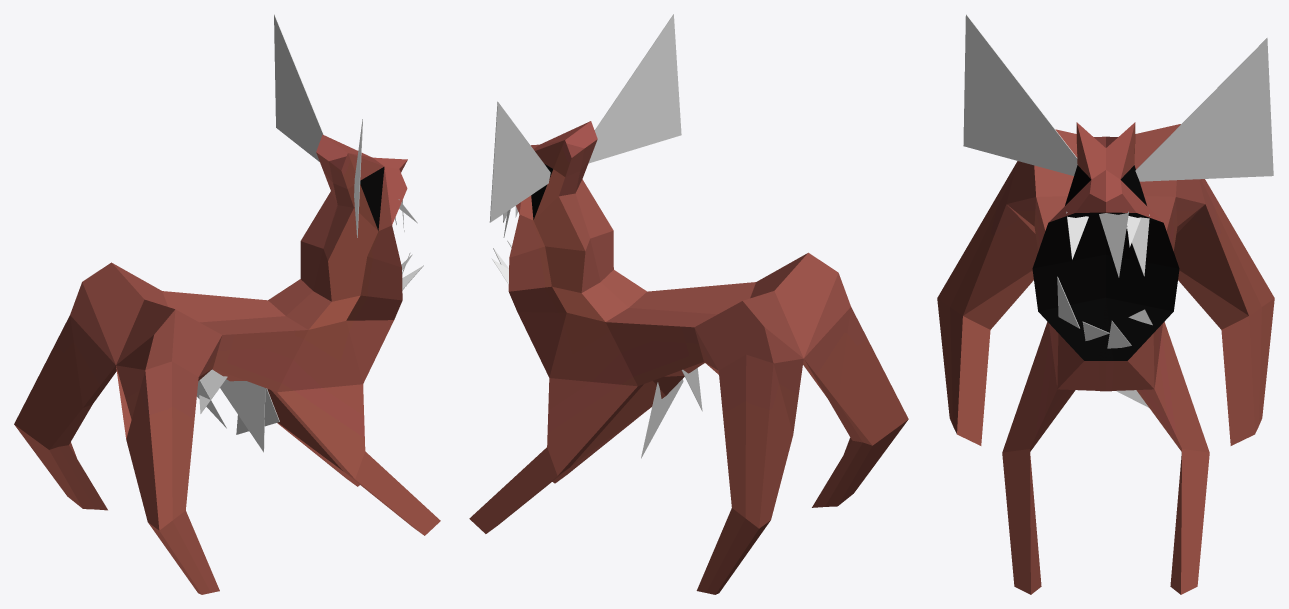
Rendered from enemy.glb.
3 renders of one model, left to right at view 1: azimuth 30°, elevation 25°; view 2: azimuth 150°, elevation 25°; view 3: azimuth 270°, elevation 25°, orthographic. The views are drawn at different scales.
Visible parts, largest first — view 1: Plane.004; view 2: Plane.004; view 3: Plane.004.
Boxes of the visible parts, x1,y1,x2,y2 form: Plane.004: (14, 14, 440, 594); Plane.004: (469, 14, 908, 594); Plane.004: (937, 14, 1274, 594).
Bounding box in the file's own units: 5.88 × 7.74 × 4.5.
1 material, 1 textured.
